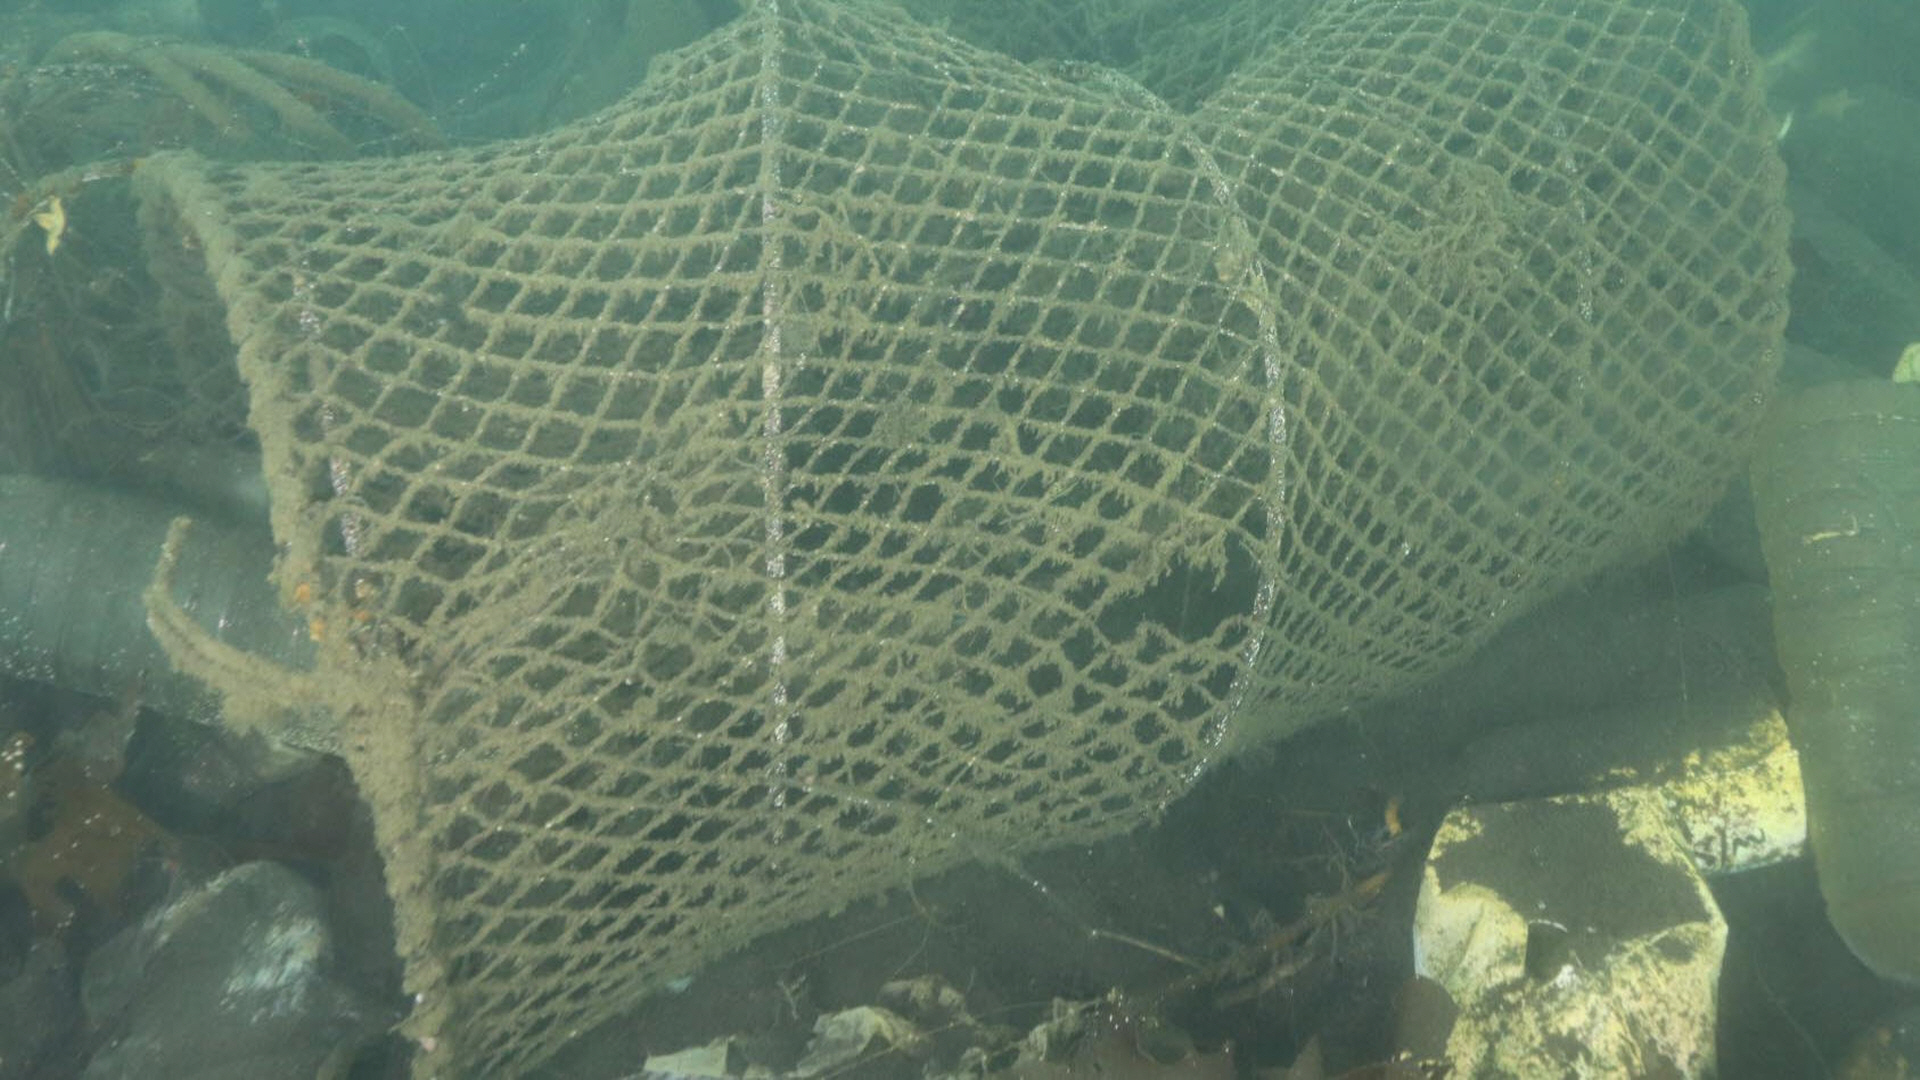bundle of ropes: (36, 25, 458, 153)
spring fish trap: (129, 0, 1797, 1075)
